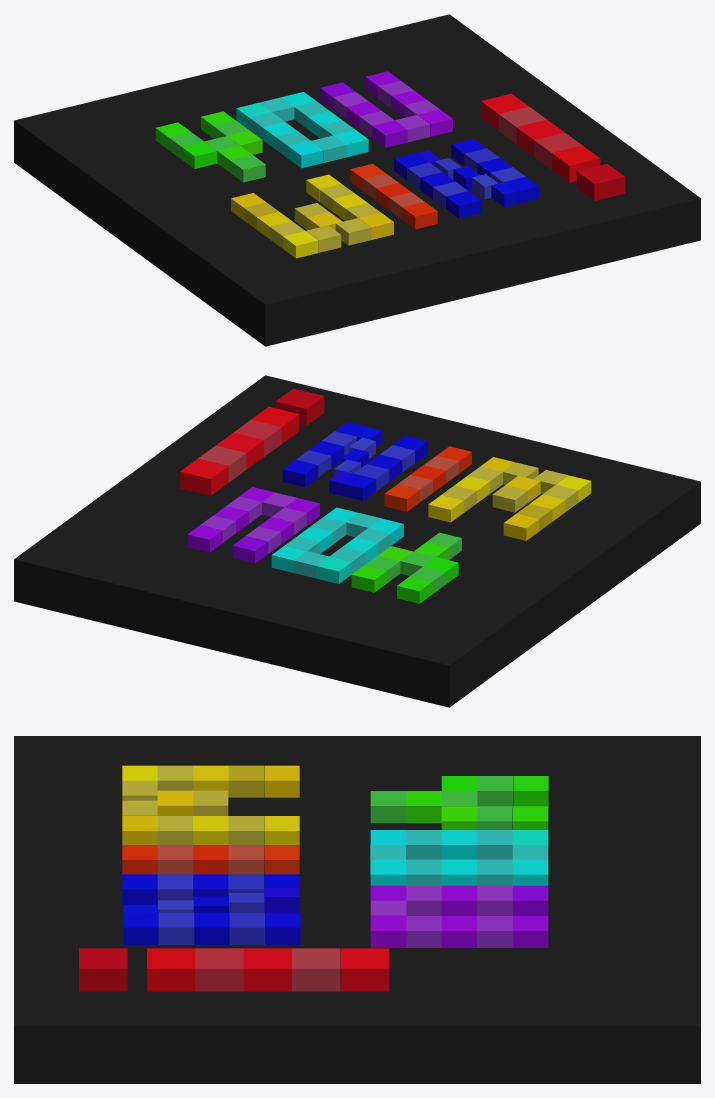
File: win.glb
3 views of the same model, one above another, from view 1: azimuth 30°, elevation 25°; view 2: azimuth 150°, elevation 25°; view 3: azimuth 270°, elevation 25° (orthographic). The views are drawn at different scales.
Visible parts, largest first — view 1: win, Cube.071, Cube.070, Cube.067, Cube.066, Cube.069, Cube.068, Cube.002, Cube.055, Cube.021, Cube.032, Cube.008 (+11 smaller); view 2: win, Cube.066, Cube.071, Cube.067, Cube.070, Cube.068, Cube.069, Cube.036, Cube.006, Cube, Cube.039, Cube.050 (+9 smaller); view 3: win, Cube.066, Cube.067, Cube.069, Cube.070, Cube.071, Cube.068, Cube.008, Cube.057, Cube.007, Cube.036, Cube.059 (+58 smaller).
Part boxes in pixels (bbox=[...]): win: bbox=[14, 14, 700, 346]; Cube.071: bbox=[576, 163, 625, 200]; Cube.070: bbox=[552, 145, 600, 182]; Cube.067: bbox=[498, 106, 546, 143]; Cube.066: bbox=[481, 93, 528, 130]; Cube.069: bbox=[534, 132, 582, 169]; Cube.068: bbox=[516, 119, 564, 156]; Cube.002: bbox=[181, 141, 217, 168]; Cube.055: bbox=[446, 191, 481, 218]; Cube.021: bbox=[372, 120, 407, 147]; Cube.032: bbox=[283, 231, 318, 258]; Cube.008: bbox=[230, 155, 265, 182]; win: bbox=[14, 375, 700, 707]; Cube.066: bbox=[180, 458, 228, 495]; Cube.071: bbox=[276, 388, 324, 425]; Cube.067: bbox=[198, 445, 246, 482]; Cube.070: bbox=[251, 407, 299, 443]; Cube.068: bbox=[216, 432, 263, 469]; Cube.069: bbox=[234, 419, 281, 456]; Cube.036: bbox=[503, 513, 539, 540]; Cube.006: bbox=[351, 565, 387, 592]; Cube: bbox=[397, 576, 432, 603]; Cube.039: bbox=[492, 485, 527, 512]; Cube.050: bbox=[384, 484, 419, 511]; win: bbox=[14, 736, 700, 1083]; Cube.066: bbox=[340, 948, 389, 991]; Cube.067: bbox=[292, 948, 340, 991]; Cube.069: bbox=[195, 948, 243, 991]; Cube.070: bbox=[147, 948, 195, 991]; Cube.071: bbox=[79, 948, 127, 991]; Cube.068: bbox=[243, 948, 292, 991]; Cube.008: bbox=[370, 791, 406, 823]; Cube.057: bbox=[158, 912, 194, 944]; Cube.007: bbox=[406, 791, 441, 823]; Cube.036: bbox=[264, 765, 299, 797]; Cube.059: bbox=[229, 912, 264, 944].
Size of the model in its own units: 81.89 by 10.6 by 81.89.
